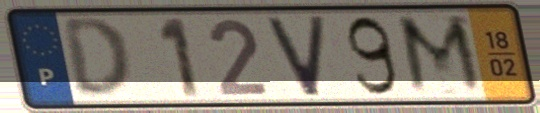1: (156, 15, 205, 100)
2: (206, 16, 272, 98)
9: (342, 13, 401, 98)
D: (58, 15, 135, 102)
M: (392, 12, 490, 98)
V: (262, 13, 329, 99)
